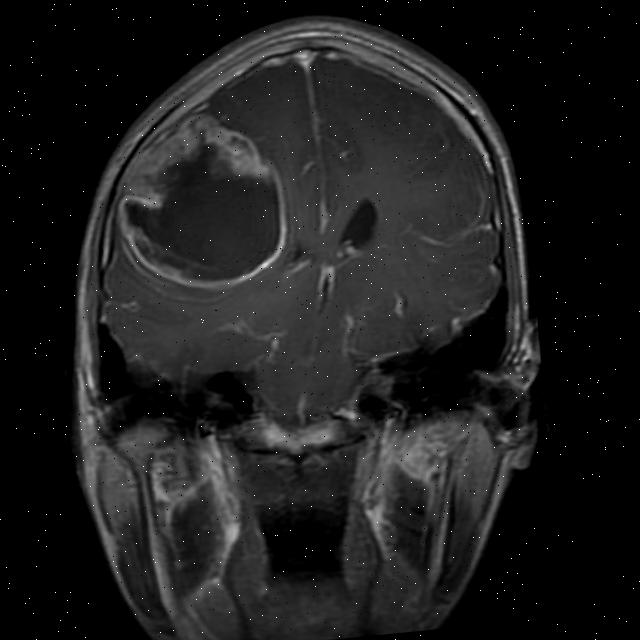Glioma: (101, 102, 301, 300)
Pituitary: (257, 416, 343, 456)
